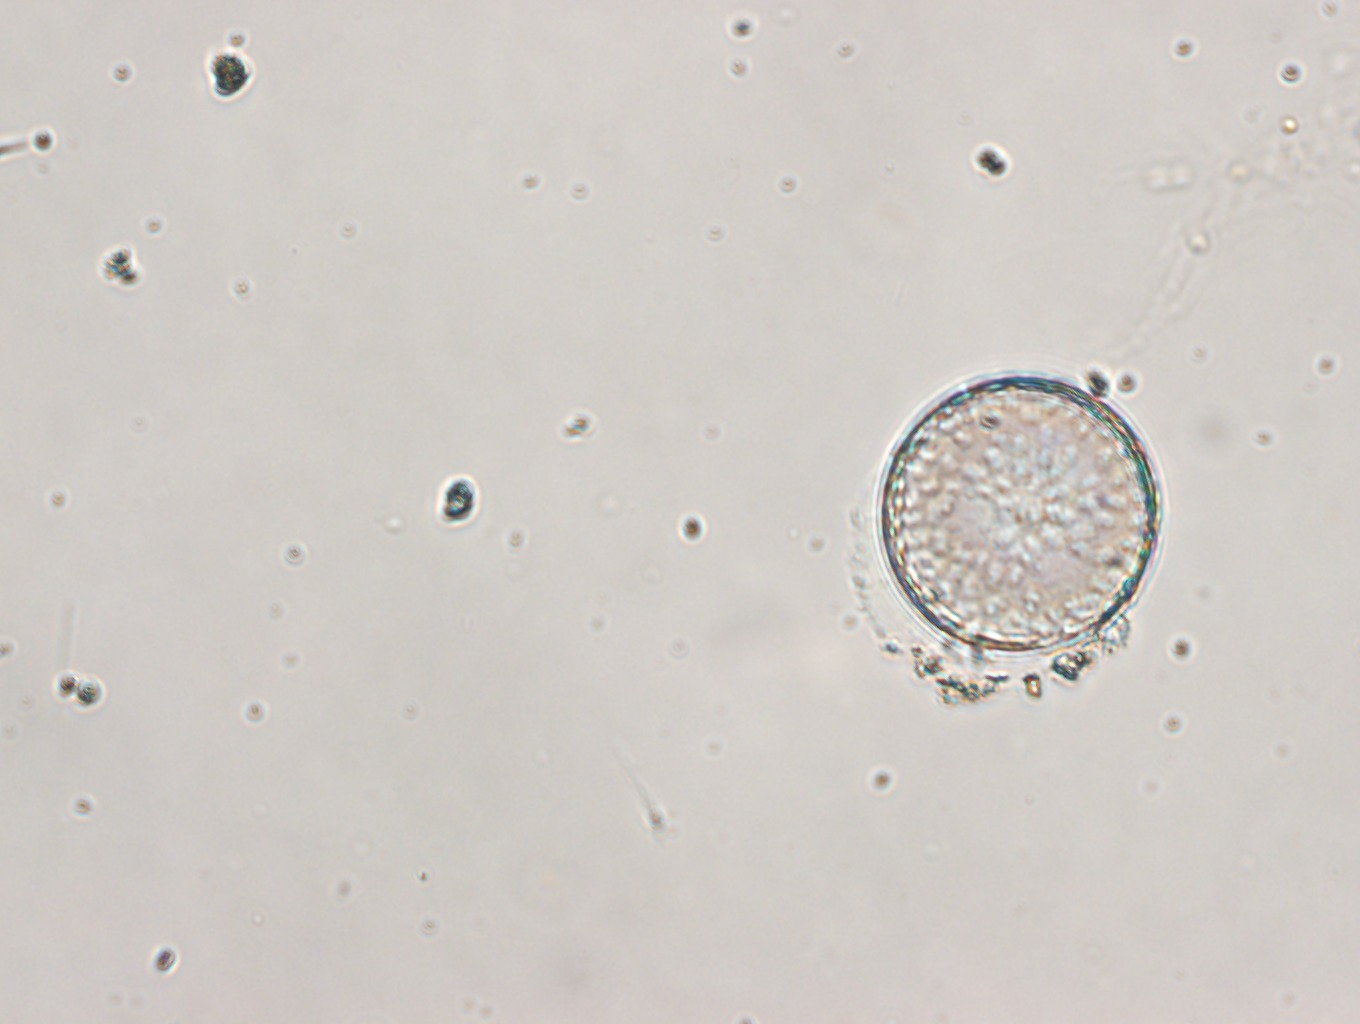coscinodiscus: (871, 367, 1163, 655)
